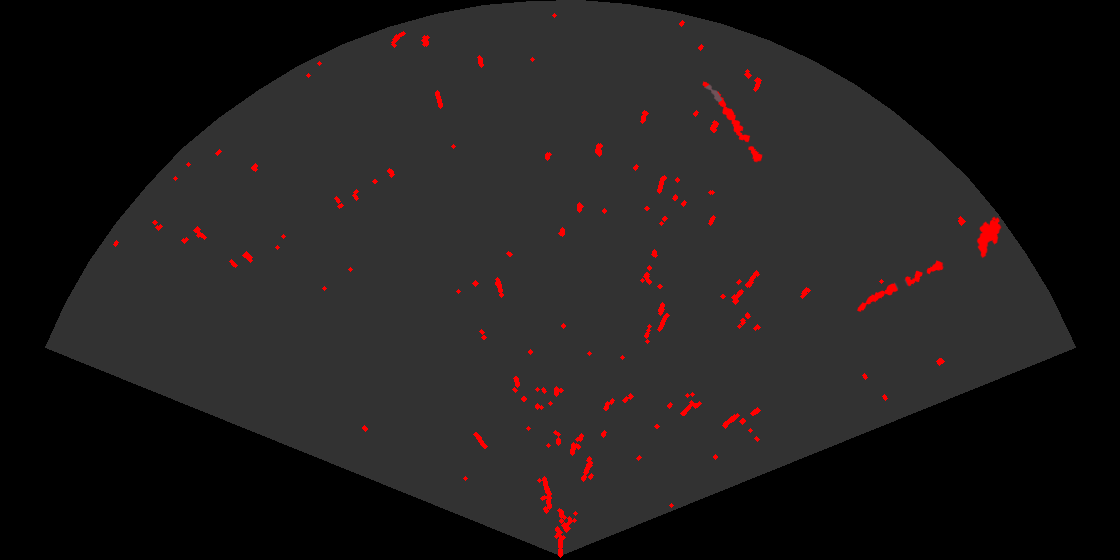AUV: (975, 215, 1003, 260)
chain: (701, 80, 764, 164), (856, 259, 946, 313)
